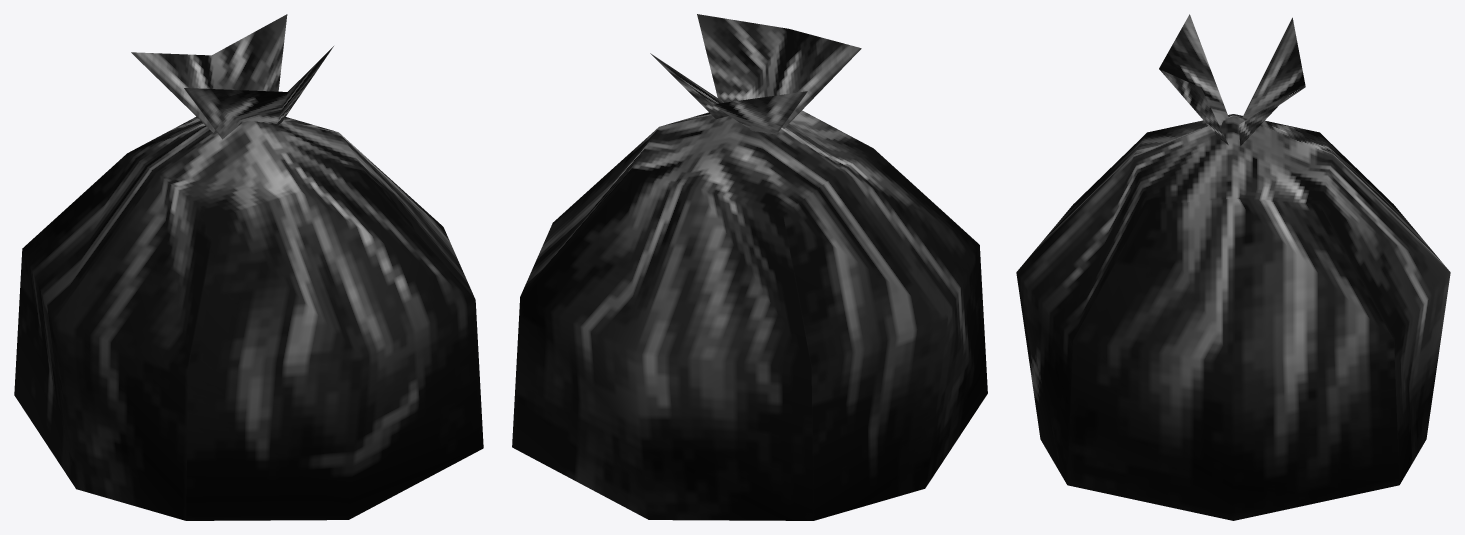
Rendered from Retro PSX Trash bag B.fbx.
3 renders of one model, left to right at view 1: azimuth 30°, elevation 25°; view 2: azimuth 150°, elevation 25°; view 3: azimuth 270°, elevation 25°, orthographic. The views are drawn at different scales.
Visible parts, largest first — view 1: Cube.002, Plane.002; view 2: Cube.002, Plane.002; view 3: Cube.002, Plane.002.
Part boxes in pixels (left/top/right/bottom): Cube.002: left=14, top=116, right=483, bottom=520; Plane.002: left=131, top=14, right=333, bottom=139; Cube.002: left=512, top=110, right=987, bottom=520; Plane.002: left=650, top=14, right=861, bottom=134; Cube.002: left=1016, top=114, right=1450, bottom=520; Plane.002: left=1159, top=14, right=1305, bottom=145.
Size of the model in its own units: 45.57 by 49.59 by 45.57.
2 materials, 2 textured.
